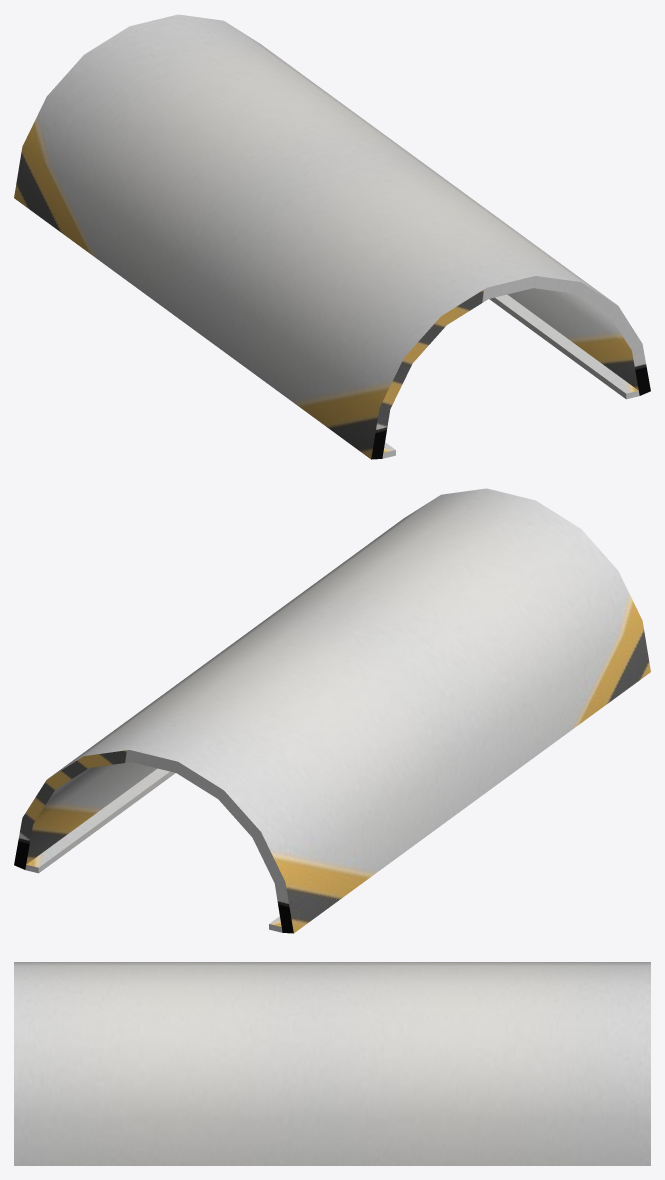
File: 隧道墙体.obj
3 renders of one model, top to bottom at view 1: azimuth 30°, elevation 25°; view 2: azimuth 150°, elevation 25°; view 3: azimuth 270°, elevation 25°, orthographic. The views are drawn at different scales.
Visible parts, largest first — view 1: Object001; view 2: Object001; view 3: Object001.
Boxes of the visible parts, x1,y1,x2,y2 form: Object001: [14, 14, 650, 459]; Object001: [14, 488, 650, 933]; Object001: [14, 962, 650, 1165].
Bounding box in the file's own units: 5074 × 2525 × 11218.
